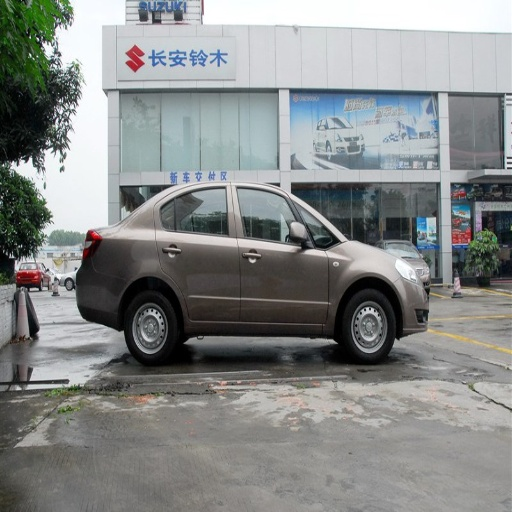back_right_door: (157, 183, 240, 322)
front_right_door: (235, 184, 330, 322)
